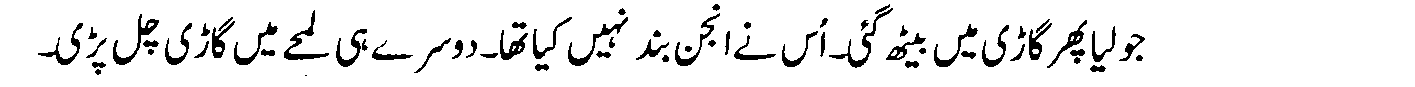bay_shosha: (914, 28, 930, 53), (657, 40, 672, 61)
